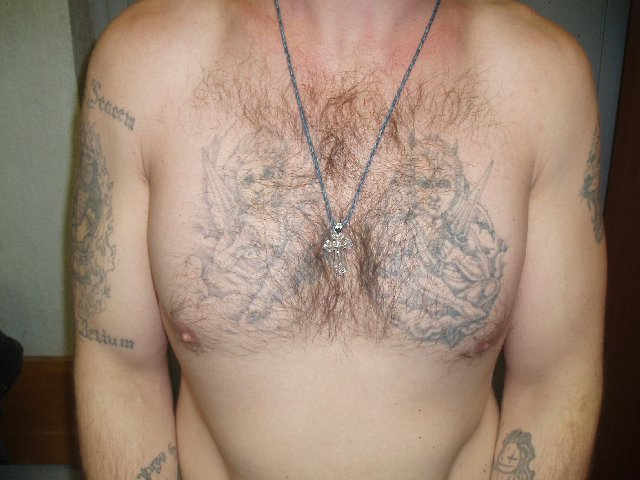tatu1_angel: (372, 127, 511, 355), (184, 123, 320, 327)
